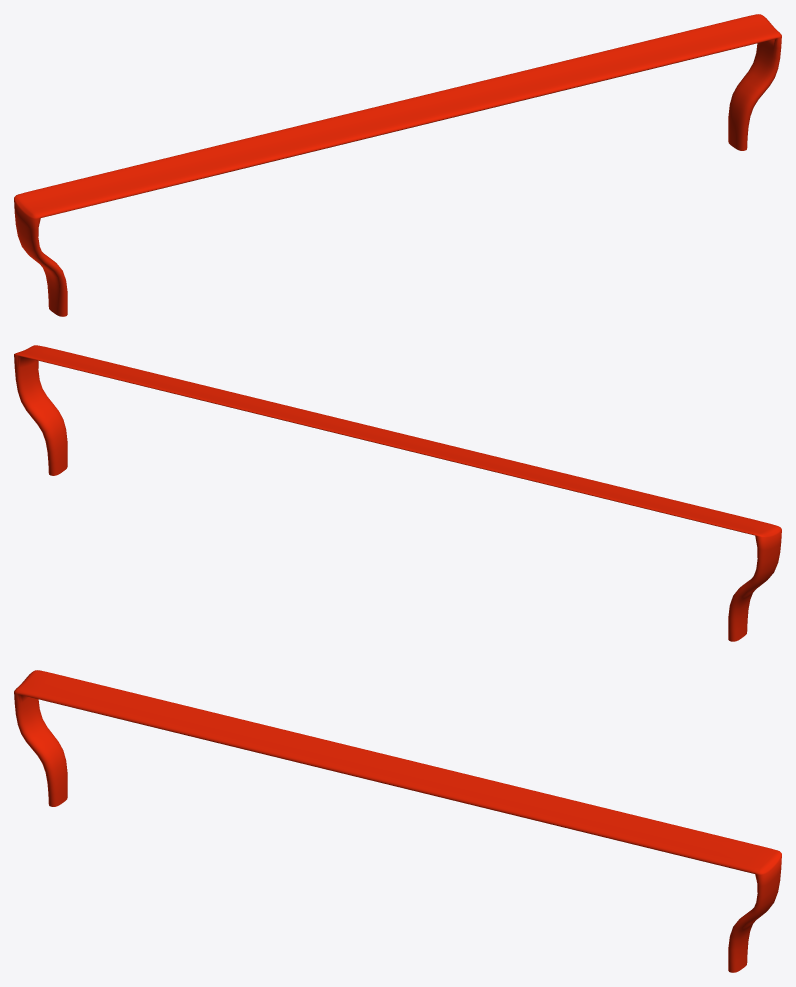
3 renders of one model, top to bottom at view 1: azimuth 30°, elevation 25°; view 2: azimuth 150°, elevation 25°; view 3: azimuth 330°, elevation 25°, orthographic.
Visible parts, largest first — view 1: RW3; view 2: RW3; view 3: RW3.
Part boxes in pixels (bbox=[...]): RW3: bbox=[14, 14, 781, 316]; RW3: bbox=[14, 345, 781, 641]; RW3: bbox=[14, 670, 781, 972].
Size of the model in its own units: 2.24 by 0.3325 by 0.1125.
